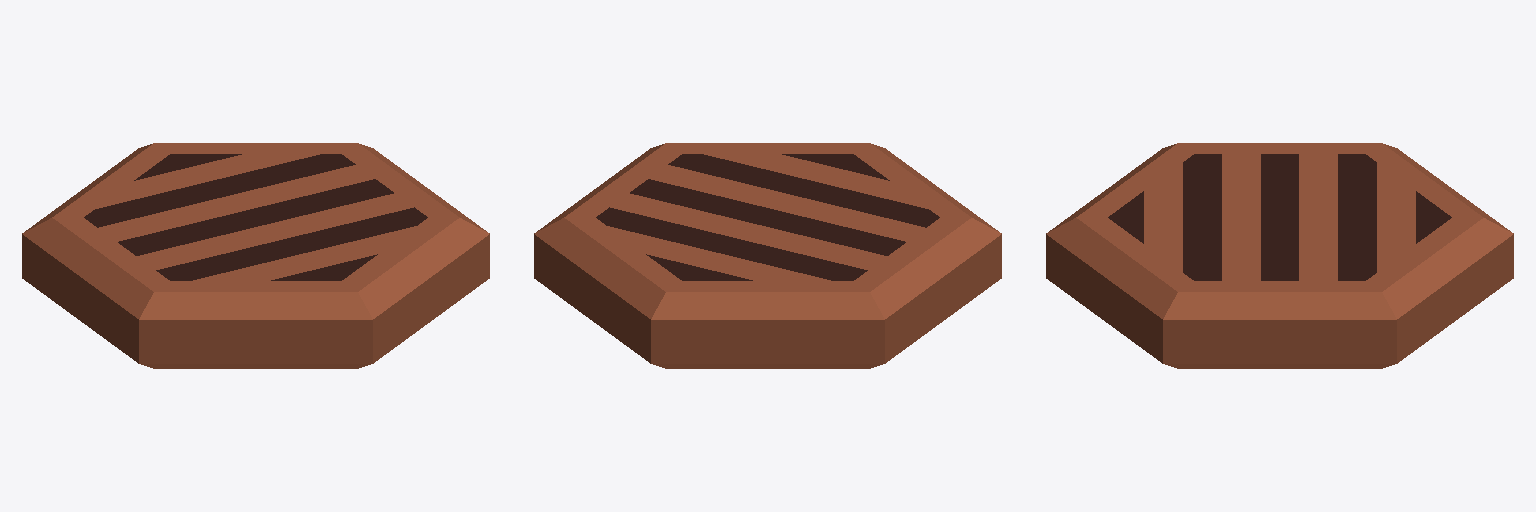
Rendered from meatPatty.obj.
3 views of the same model, side by side, from view 1: azimuth 30°, elevation 25°; view 2: azimuth 150°, elevation 25°; view 3: azimuth 270°, elevation 25° (orthographic).
Visible parts, largest first — view 1: meatPatty; view 2: meatPatty; view 3: meatPatty.
Part boxes in pixels (x1,y1,x2,y2): meatPatty: (22,143,489,368); meatPatty: (534,143,1001,368); meatPatty: (1046,143,1513,368).
Bounding box in the file's own units: 0.2988 × 0.0624 × 0.345.